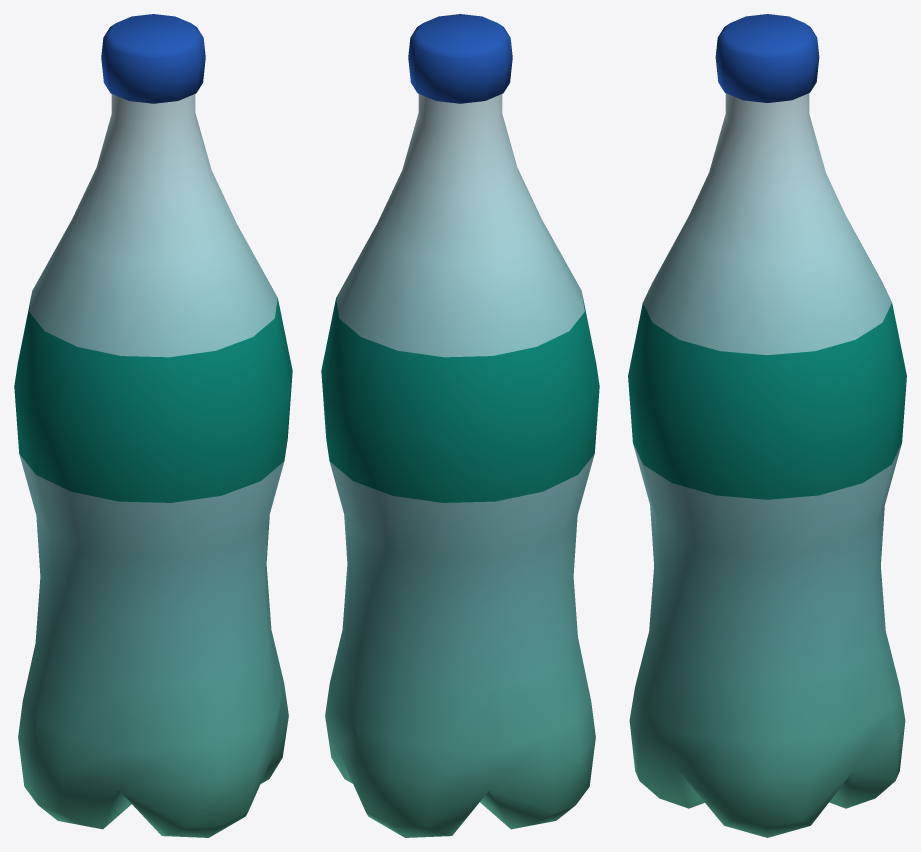
Rendered from bottle_004.fbx.
3 renders of one model, left to right at view 1: azimuth 30°, elevation 25°; view 2: azimuth 150°, elevation 25°; view 3: azimuth 270°, elevation 25°, orthographic.
Visible parts, largest first — view 1: bottle_004; view 2: bottle_004; view 3: bottle_004.
Boxes of the visible parts, x1,y1,x2,y2 form: bottle_004: [14, 14, 292, 837]; bottle_004: [321, 14, 599, 837]; bottle_004: [628, 14, 906, 837].
Bounding box in the file's own units: 8.49 × 8.49 × 25.88.
